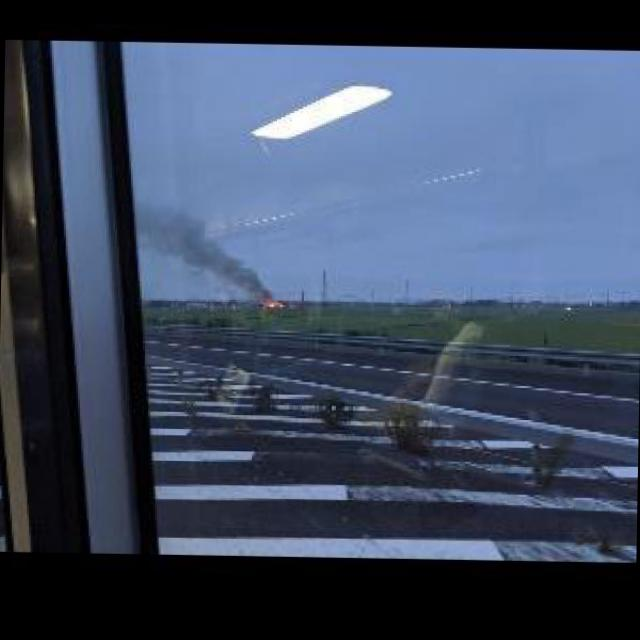fire: (265, 300, 282, 304)
smoke: (184, 241, 274, 298)
